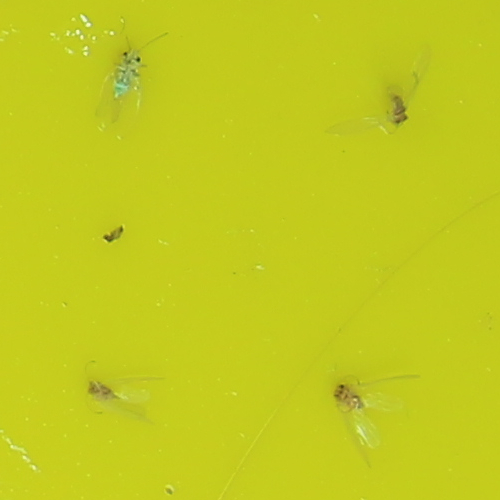Glycaspis: (112, 48, 143, 100), (333, 382, 368, 409), (86, 379, 122, 402), (389, 97, 408, 126)
